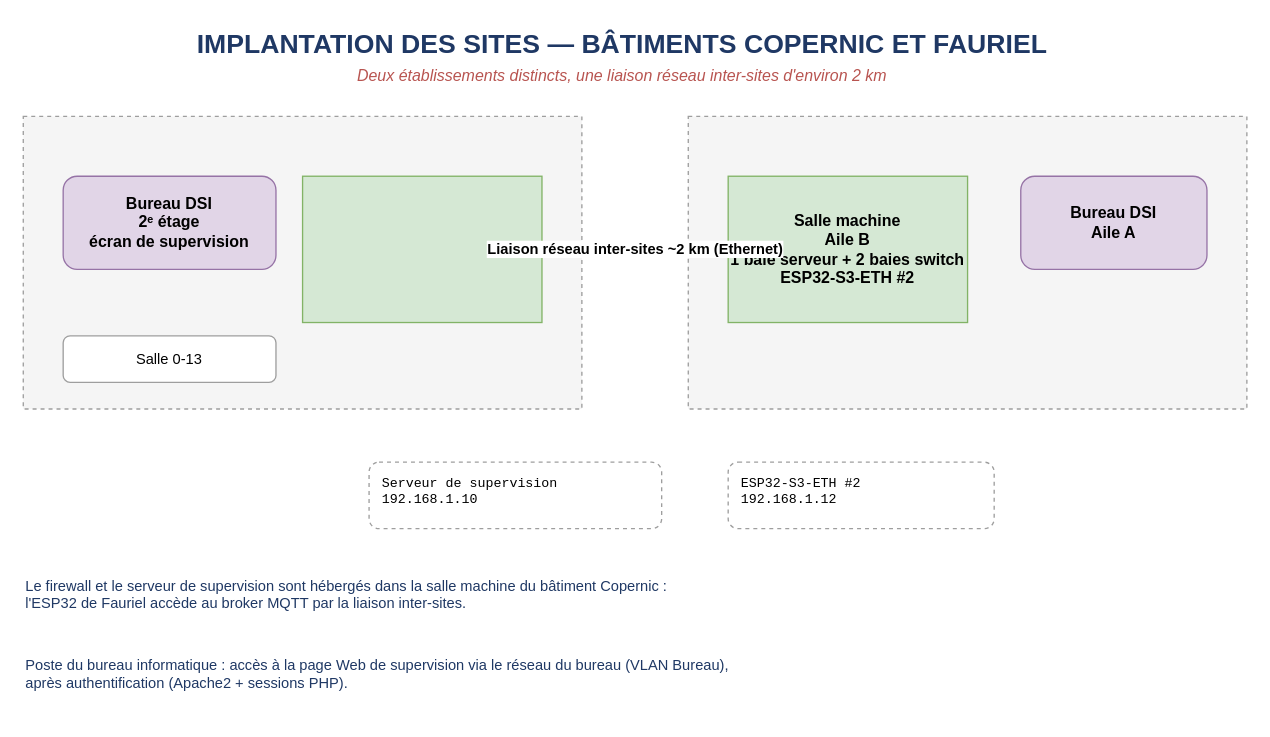
The diagram is 1270 pixels wide and 737 high, and some of its shapes have lost their labels. The box of each missing label's shape, as (x1, y1, x2, y2) in pixels:
BÂTIMENT COPERNIC — 2 rue Copernic (IRUP): (22, 115, 582, 409)
BÂTIMENT FAURIEL — 2ᵉ étage (ISTP): (687, 115, 1247, 409)
Salle machine 2ᵉ étage switch + firewall + VM serveur de supervision: (301, 175, 542, 323)
